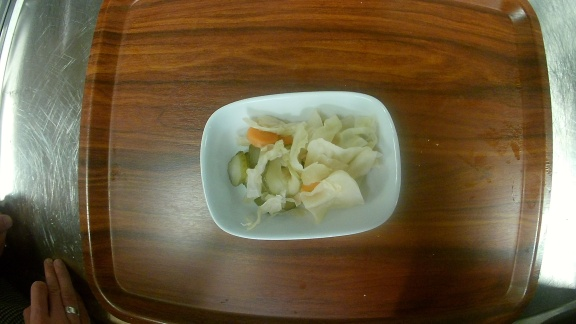tursu: (199, 91, 402, 240)
